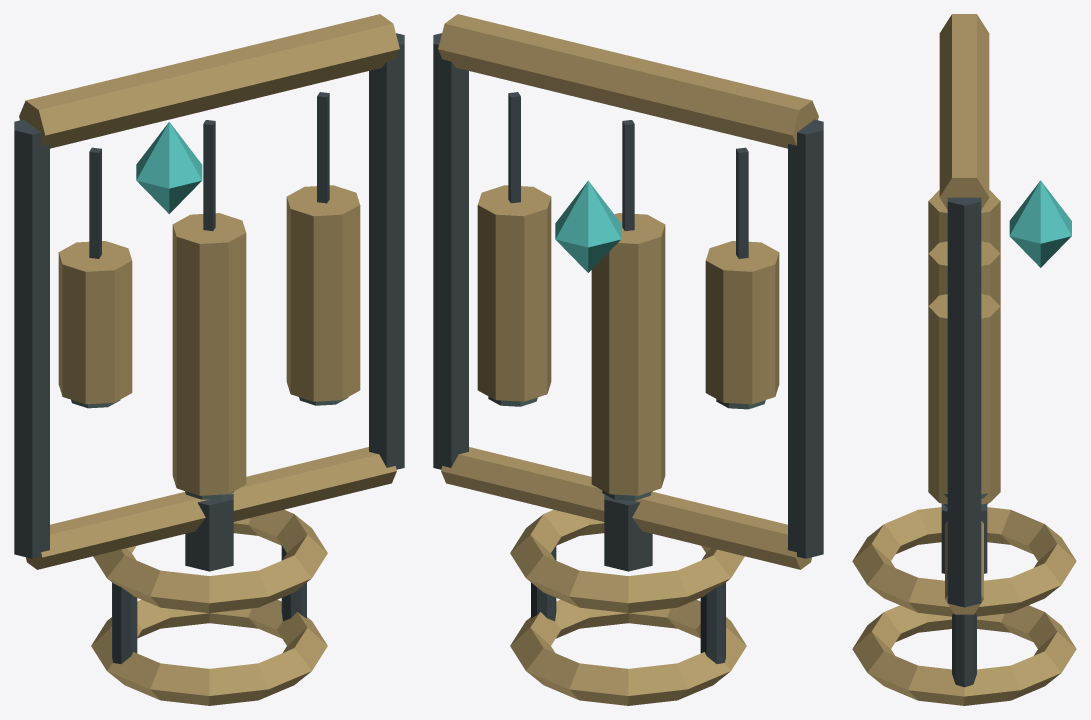
Rendered from Equip_ReedBell.fbx.
The picture shows the model from 3 angles, left to right: view 1: azimuth 30°, elevation 25°; view 2: azimuth 150°, elevation 25°; view 3: azimuth 270°, elevation 25°; orthographic projection. The views are drawn at different scales.
Visible parts, largest first — view 1: Equip_ReedBell; view 2: Equip_ReedBell; view 3: Equip_ReedBell.
Part boxes in pixels (x1,y1,x2,y2): Equip_ReedBell: (14,14,404,705); Equip_ReedBell: (433,14,823,705); Equip_ReedBell: (852,14,1076,705).
Bounding box in the file's own units: 0.308 × 0.4546 × 0.162.
